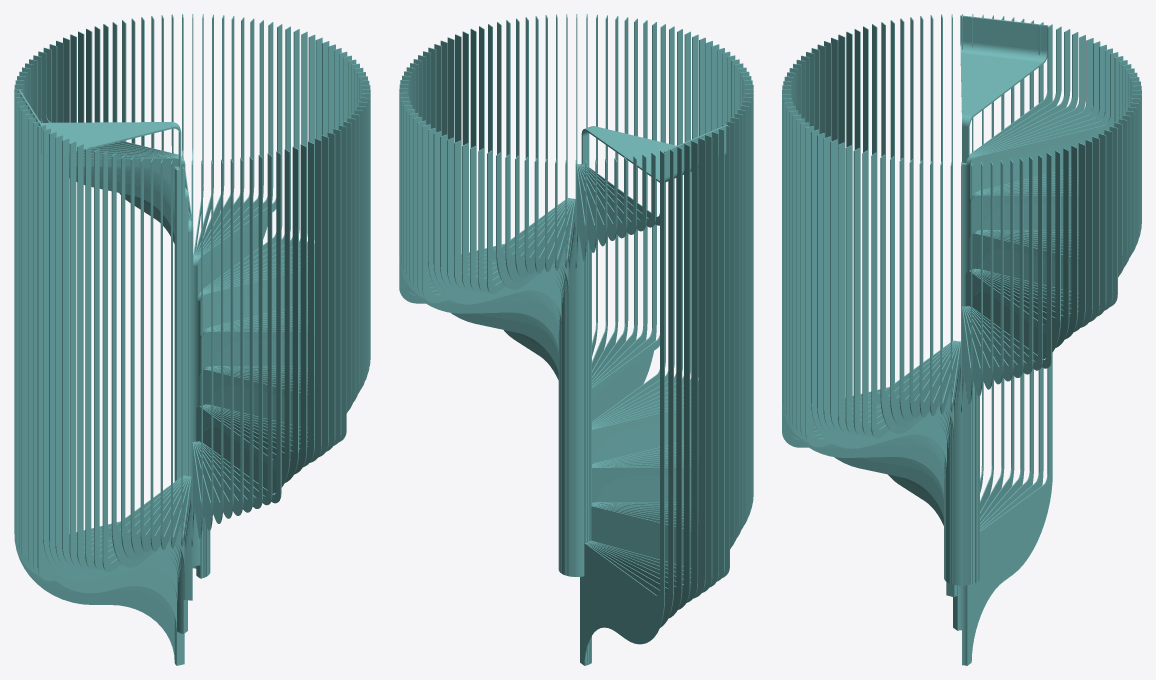
The model's file is Project 09_Sospesa.glb.
3 views of the same model, side by side, from view 1: azimuth 30°, elevation 25°; view 2: azimuth 150°, elevation 25°; view 3: azimuth 270°, elevation 25° (orthographic).
Bounding box in the file's own units: 0.5304 × 0.9414 × 0.5304.
